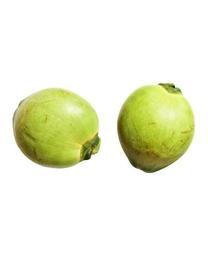coconut: (116, 83, 196, 174), (12, 87, 100, 169)
